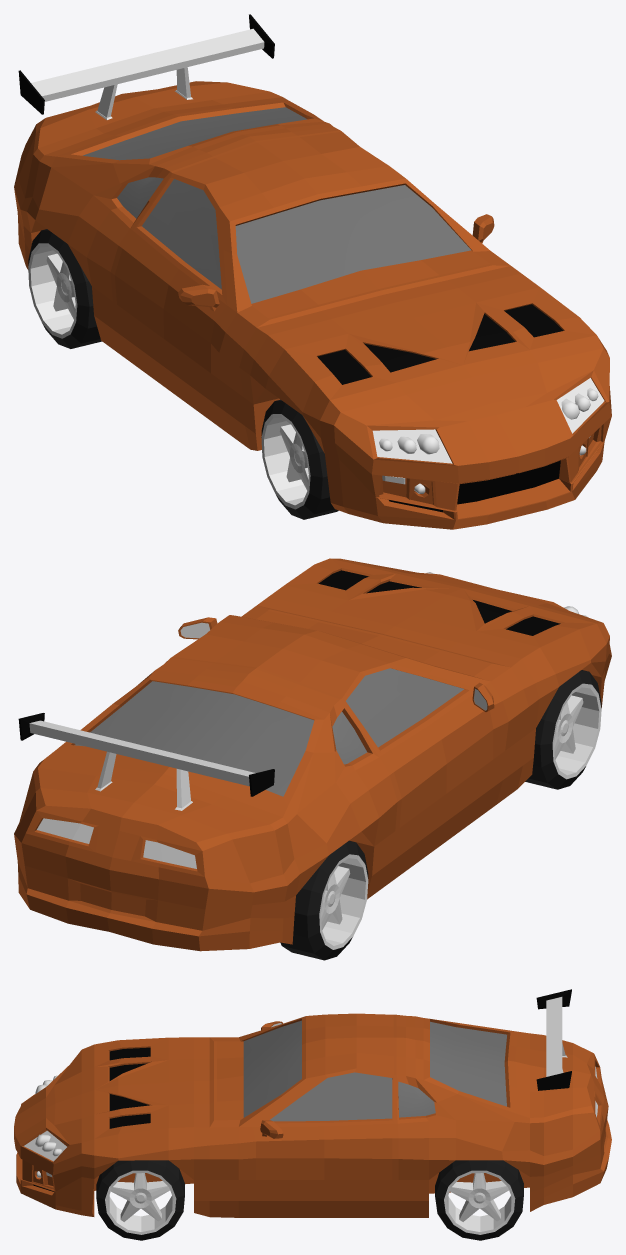
Rendered from supra.fbx.
3 views of the same model, one above another, from view 1: azimuth 30°, elevation 25°; view 2: azimuth 150°, elevation 25°; view 3: azimuth 270°, elevation 25° (orthographic). The views are drawn at different scales.
Parts seen in each view (by area): view 1: Cube, Cube.001, Cylinder; view 2: Cube, Cube.001, Cylinder; view 3: Cube, Cube.001, Cylinder.
Boxes of the visible parts, x1,y1,x2,y2 form: Cube: (14,14,611,529); Cube.001: (83,107,598,493); Cylinder: (28,229,338,519); Cube: (14,558,611,951); Cube.001: (74,572,587,796); Cylinder: (280,670,601,960); Cube: (14,989,611,1217); Cube.001: (35,1020,506,1177); Cylinder: (96,1160,523,1240).
Size of the model in its own units: 406 by 274 by 923.
